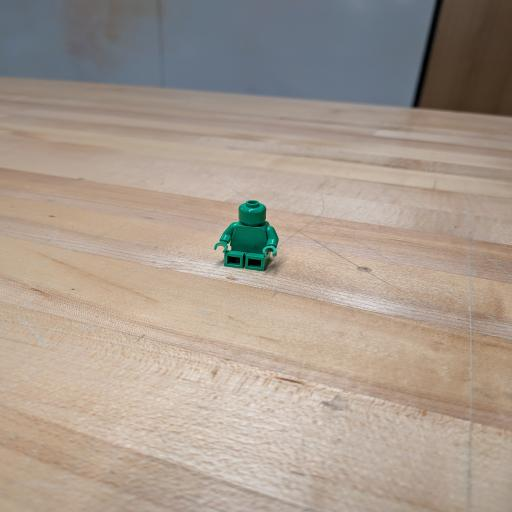Minifig: (214, 200, 278, 271)
